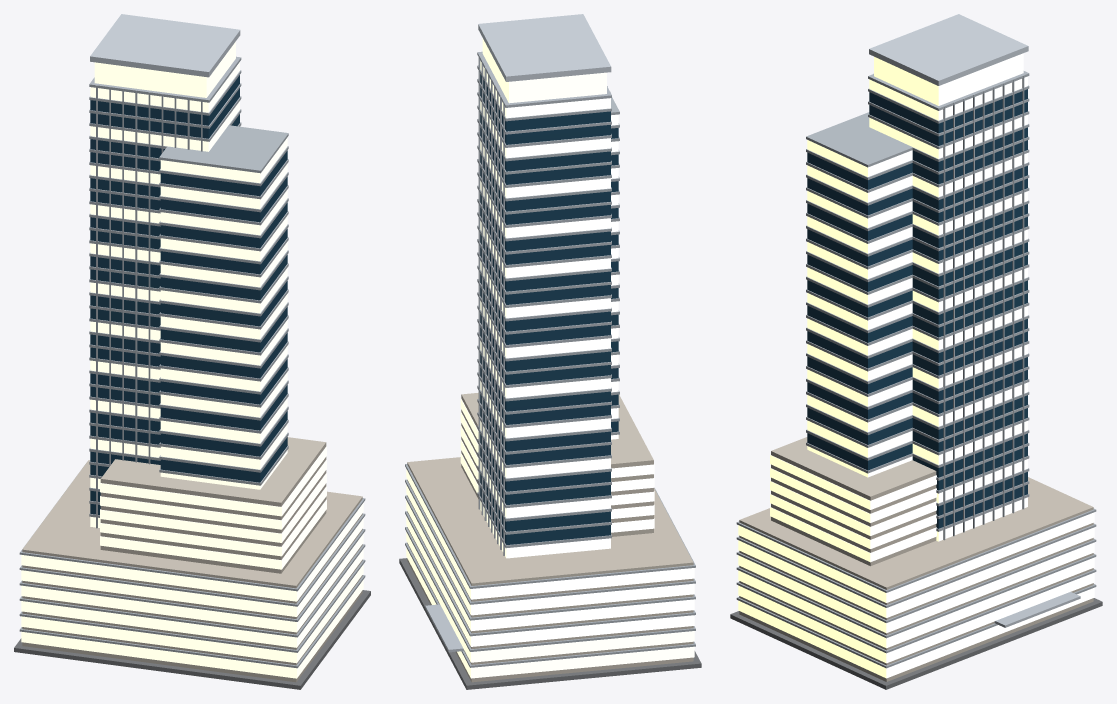
The model's file is saigon_centre_takashimaya.glb.
3 renders of one model, left to right at view 1: azimuth 30°, elevation 25°; view 2: azimuth 150°, elevation 25°; view 3: azimuth 270°, elevation 25°, orthographic. The views are drawn at different scales.
Parts seen in each view (by area): view 1: saigon_centre_takashimaya; view 2: saigon_centre_takashimaya; view 3: saigon_centre_takashimaya.
Boxes of the visible parts, x1,y1,x2,y2 form: saigon_centre_takashimaya: (14, 14, 370, 689); saigon_centre_takashimaya: (399, 14, 701, 689); saigon_centre_takashimaya: (730, 14, 1102, 689).
Size of the model in its own units: 115 by 193 by 116.
